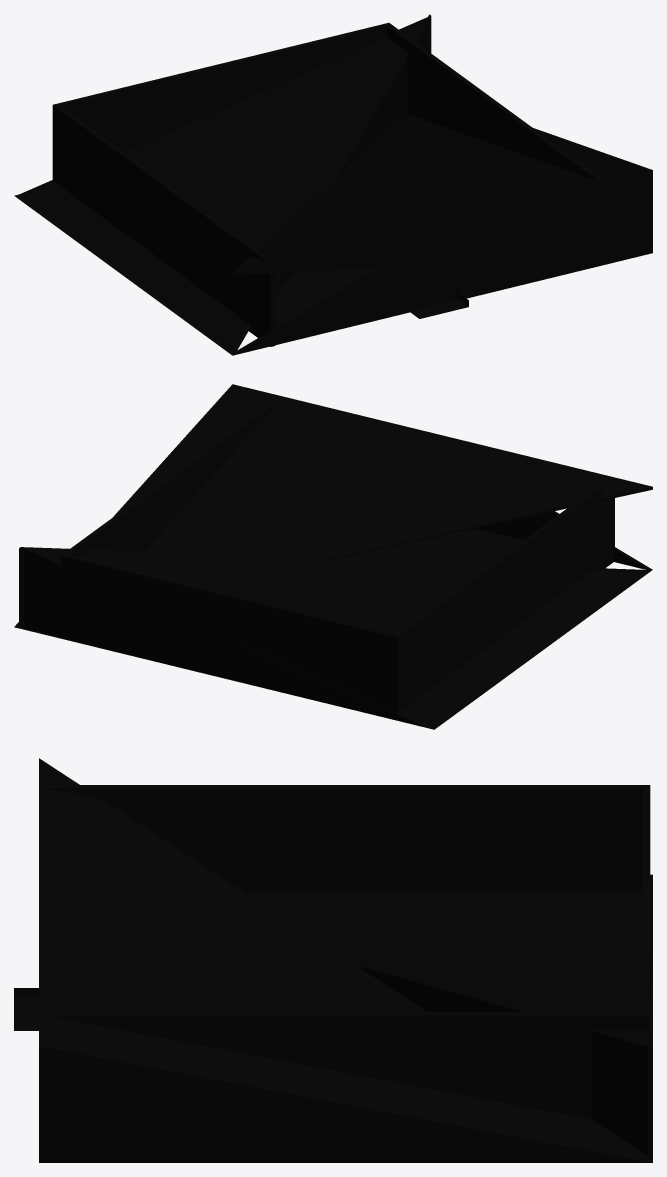
Rendered from Temple.glb.
3 renders of one model, top to bottom at view 1: azimuth 30°, elevation 25°; view 2: azimuth 150°, elevation 25°; view 3: azimuth 270°, elevation 25°, orthographic. The views are drawn at different scales.
Visible parts, largest first — view 1: Temple; view 2: Temple; view 3: Temple.
Part boxes in pixels (x1=…): Temple: x1=14, y1=14, x2=652, y2=355; Temple: x1=14, y1=384, x2=652, y2=729; Temple: x1=14, y1=758, x2=652, y2=1162.
Bounding box in the file's own units: 1356 × 258 × 1271.
1 material, 1 textured.
